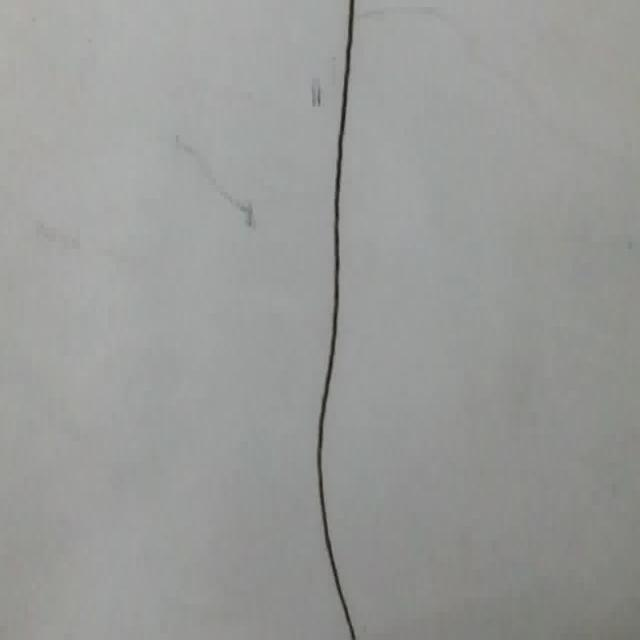Crack: (292, 0, 376, 640), (372, 0, 584, 115)
